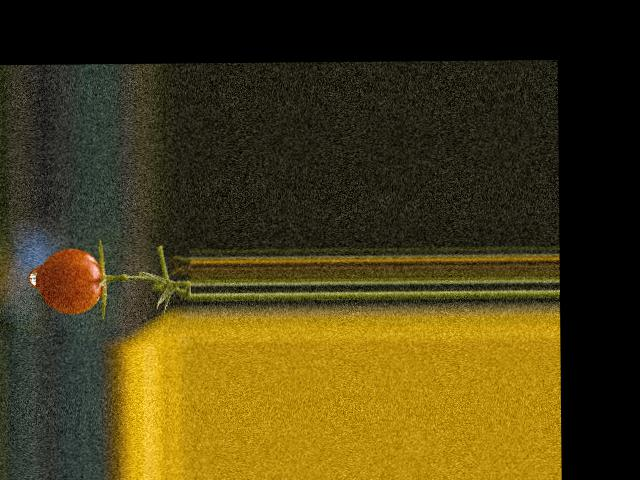tomato: (38, 247, 103, 313)
